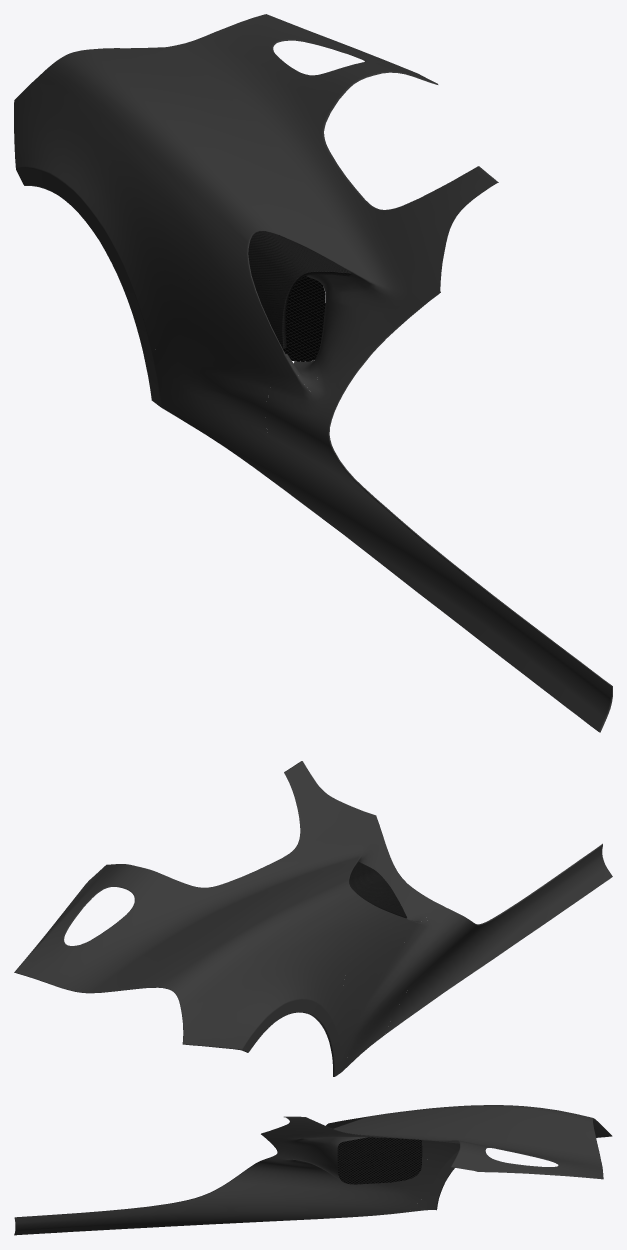
Rendered from sparkboard_rr.glb.
3 views of the same model, one above another, from view 1: azimuth 30°, elevation 25°; view 2: azimuth 150°, elevation 25°; view 3: azimuth 270°, elevation 25° (orthographic). The views are drawn at different scales.
Parts seen in each view (by area): view 1: body:Kit0_Paint_Geo_lodABody_lodA_McLaren_Elva_2021Paint_Ma. (×2); view 2: body:Kit0_Paint_Geo_lodABody_lodA_McLaren_Elva_2021Paint_Ma. (×2); view 3: body:Kit0_Paint_Geo_lodABody_lodA_McLaren_Elva_2021Paint_Ma. (×2).
Part boxes in pixels (<box>): body:Kit0_Paint_Geo_lodABody_lodA_McLaren_Elva_2021Paint_Ma. (×2): <box>14,14,612,732</box>; body:Kit0_Paint_Geo_lodABody_lodA_McLaren_Elva_2021Paint_Ma. (×2): <box>14,761,612,1076</box>; body:Kit0_Paint_Geo_lodABody_lodA_McLaren_Elva_2021Paint_Ma. (×2): <box>14,1105,612,1235</box>.
Size of the model in its own units: 0.00807 by 0.00787 by 0.0267.
4 materials, 2 textured.
